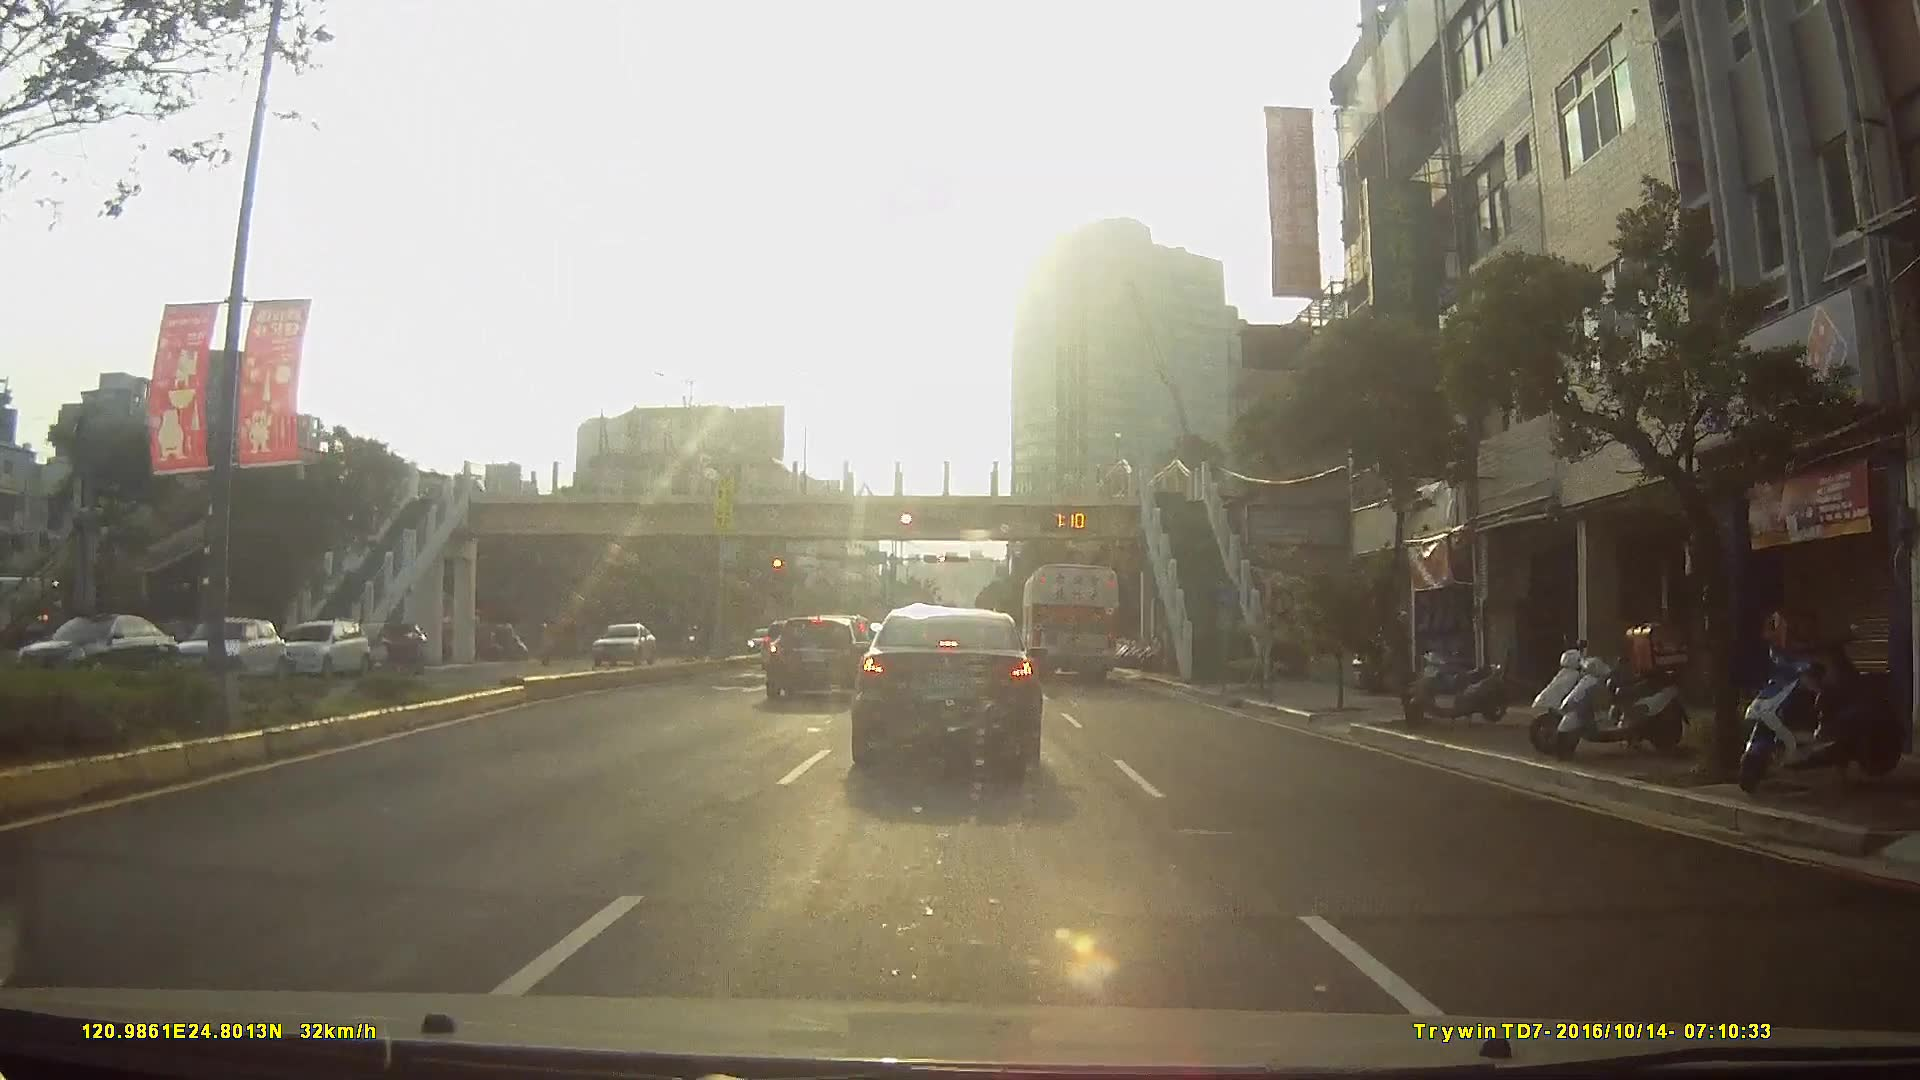rider: (363, 615, 413, 691)
vehicle: (846, 602, 1045, 770), (11, 611, 174, 687), (1019, 560, 1121, 683), (760, 612, 871, 702), (162, 616, 282, 684), (269, 617, 369, 676), (347, 618, 426, 676), (584, 620, 653, 667)
